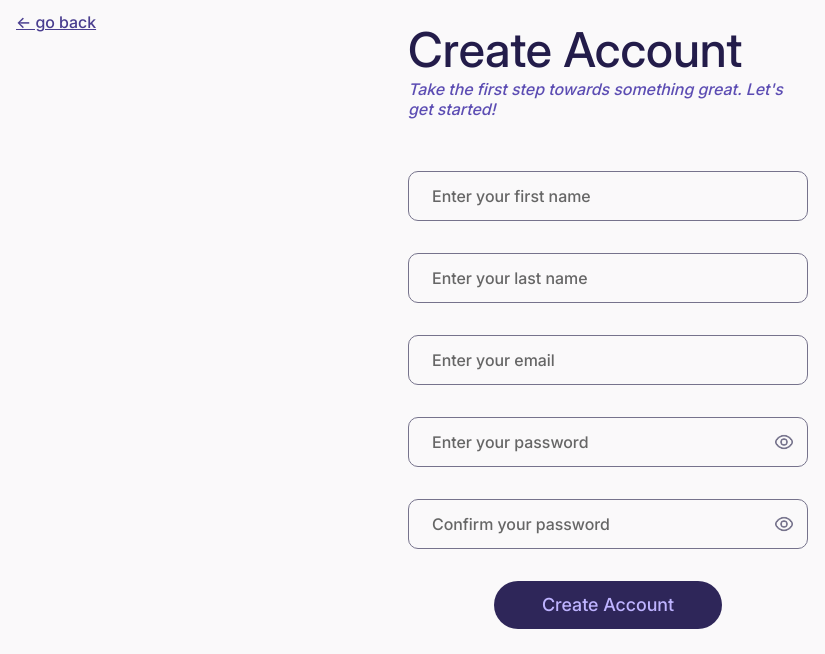
Test: Create Account Page › should show validation error when fields are empty
Click the button with test id "create_account_button" at (608, 605), box [494,581,722,629]
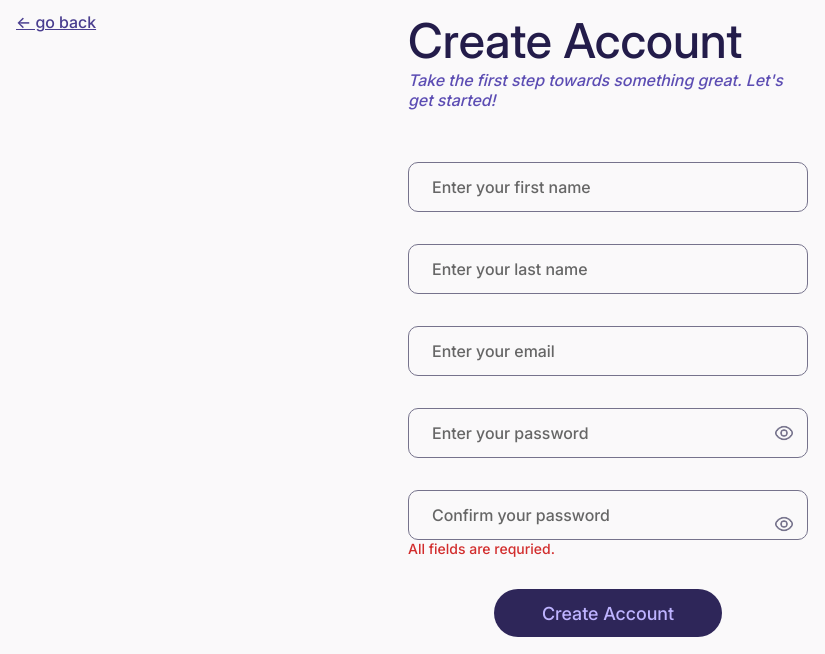
Expected: the element showing "All fields are requried." is shown, [408,540,555,557]
